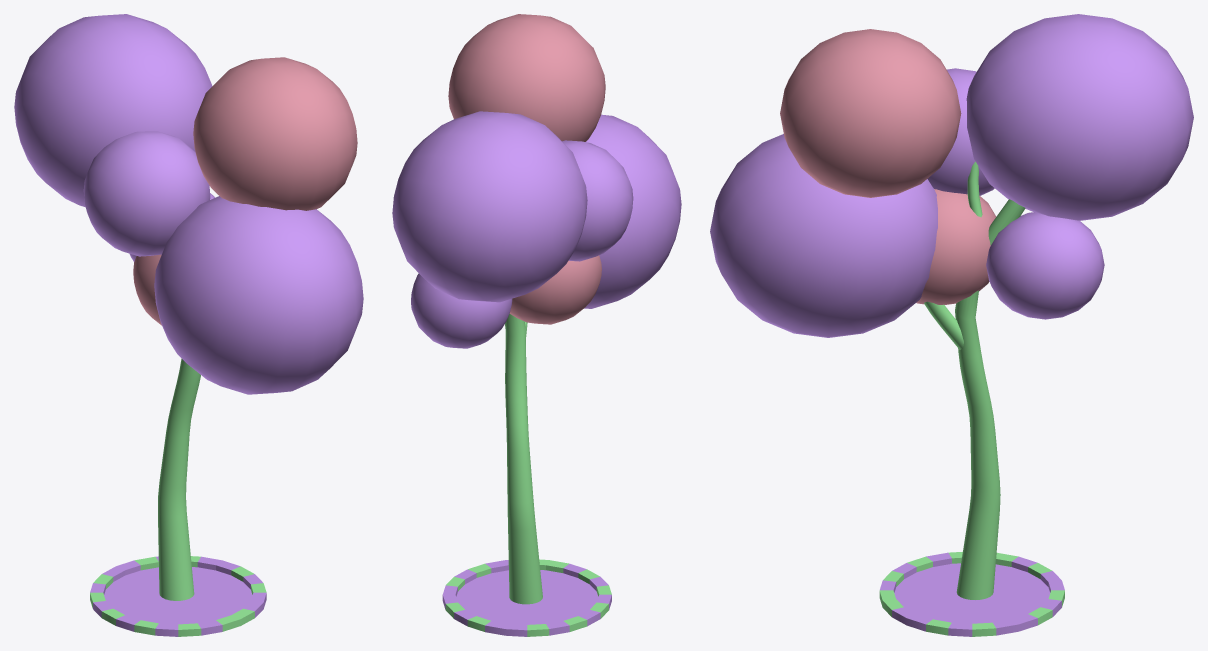
The model's file is Arbre.FBX.
3 views of the same model, side by side, from view 1: azimuth 30°, elevation 25°; view 2: azimuth 150°, elevation 25°; view 3: azimuth 270°, elevation 25° (orthographic). The views are drawn at different scales.
Visible parts, largest first — view 1: Cylinder002, Cylinder003; view 2: Cylinder002, Cylinder003; view 3: Cylinder002, Cylinder003.
Boxes of the visible parts, x1,y1,x2,y2 form: Cylinder002: (14,14,363,600); Cylinder003: (90,556,266,636); Cylinder002: (392,14,681,604); Cylinder003: (442,559,611,636); Cylinder002: (710,14,1193,599); Cylinder003: (879,551,1064,636).
Size of the model in its own units: 12.71 by 31.34 by 23.44.
